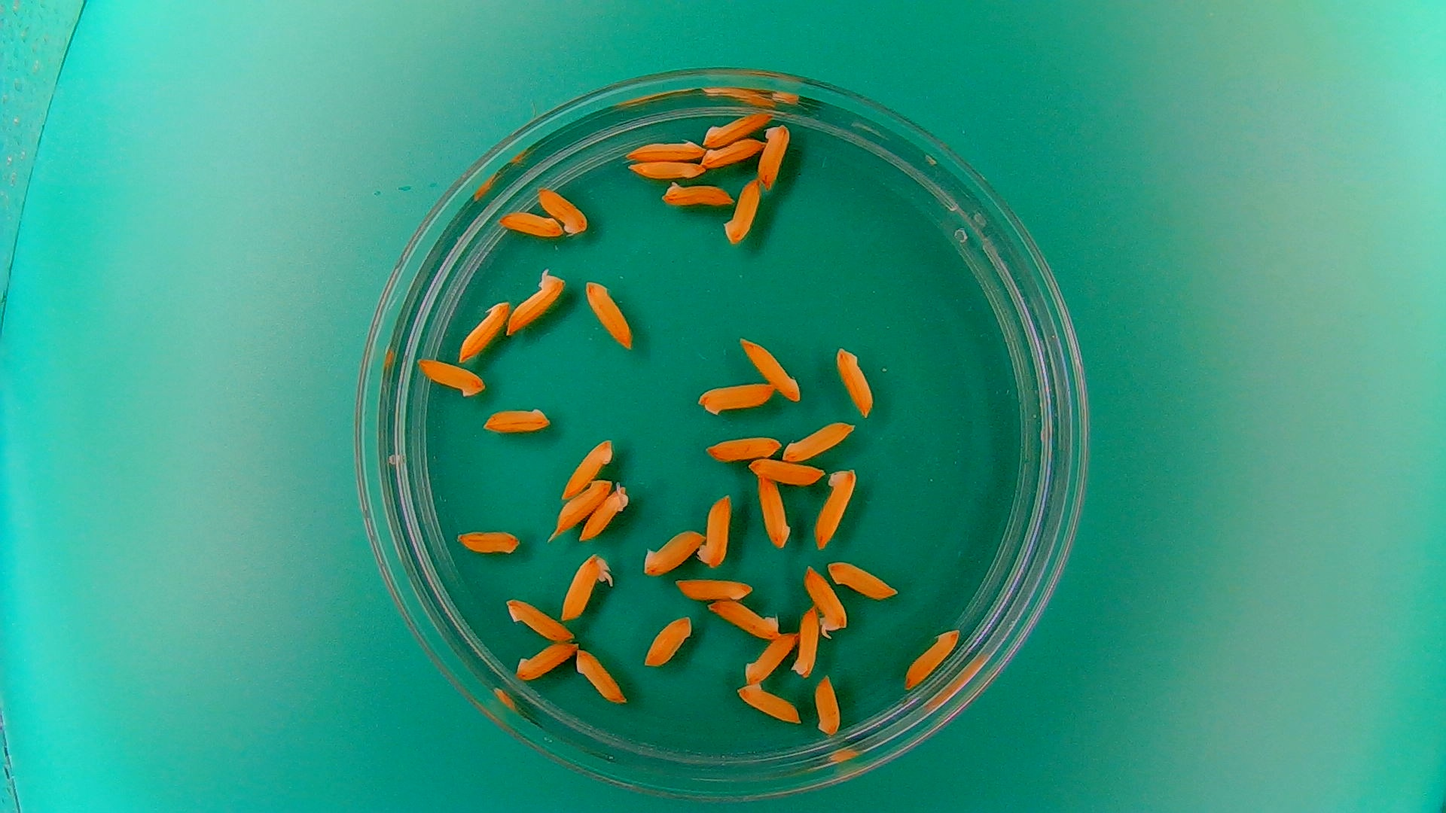no: (738, 335, 803, 403), (901, 623, 962, 690), (813, 464, 859, 550), (583, 277, 635, 349), (456, 297, 512, 363), (557, 473, 616, 535), (560, 435, 615, 501), (502, 594, 576, 642), (640, 525, 706, 577), (782, 419, 857, 464), (706, 596, 782, 640), (825, 556, 900, 600), (414, 355, 487, 400), (734, 680, 804, 726), (742, 629, 798, 686), (833, 345, 876, 417), (575, 646, 627, 705), (694, 492, 733, 570), (696, 379, 776, 417), (754, 473, 793, 550), (641, 613, 694, 669), (534, 183, 590, 236), (722, 175, 762, 246), (514, 639, 578, 683), (700, 108, 774, 146), (746, 455, 826, 487), (703, 431, 783, 463), (756, 120, 792, 190), (480, 403, 554, 436), (453, 524, 523, 558), (676, 573, 755, 603), (495, 206, 566, 239), (791, 603, 821, 679), (659, 180, 736, 209), (701, 136, 766, 170), (623, 136, 705, 162), (813, 674, 843, 737), (627, 158, 705, 181)
yes: (504, 266, 567, 336), (557, 549, 613, 621), (802, 561, 850, 636), (579, 481, 631, 544)
